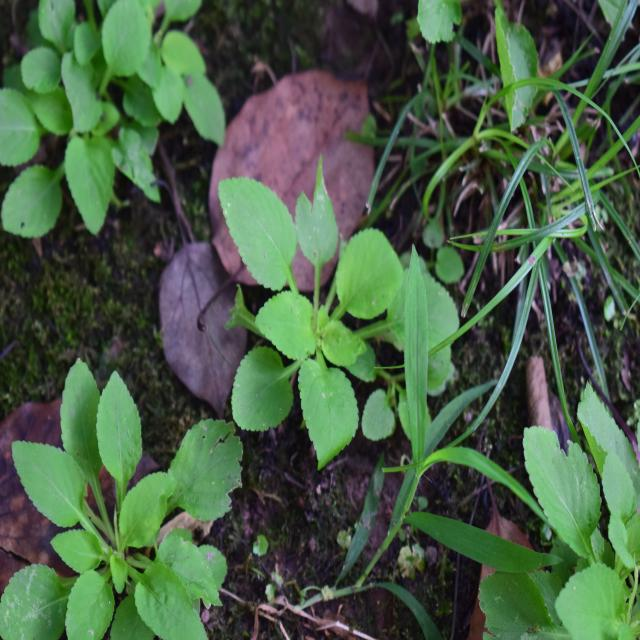Viola: (210, 168, 429, 471), (8, 346, 233, 626), (0, 6, 196, 215)
